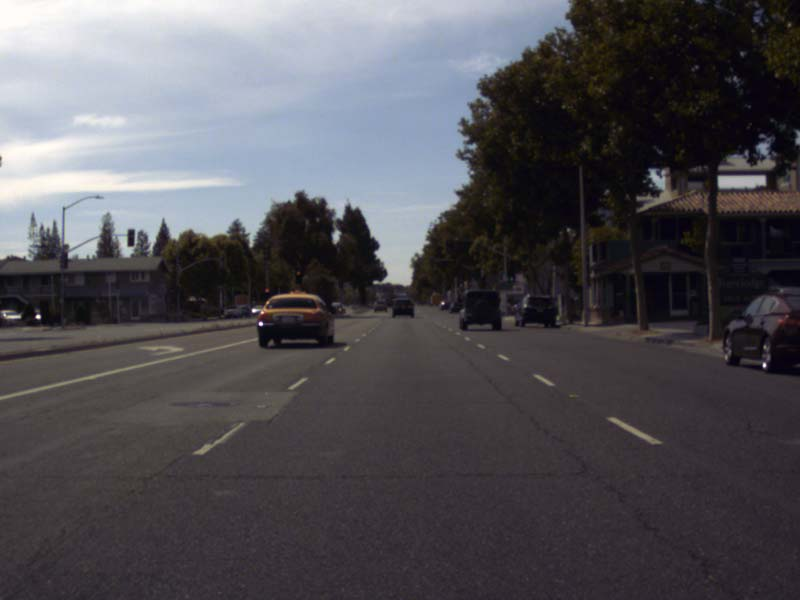Green: (507, 268, 514, 282)
Yellow: (295, 269, 301, 283), (264, 287, 269, 297)
